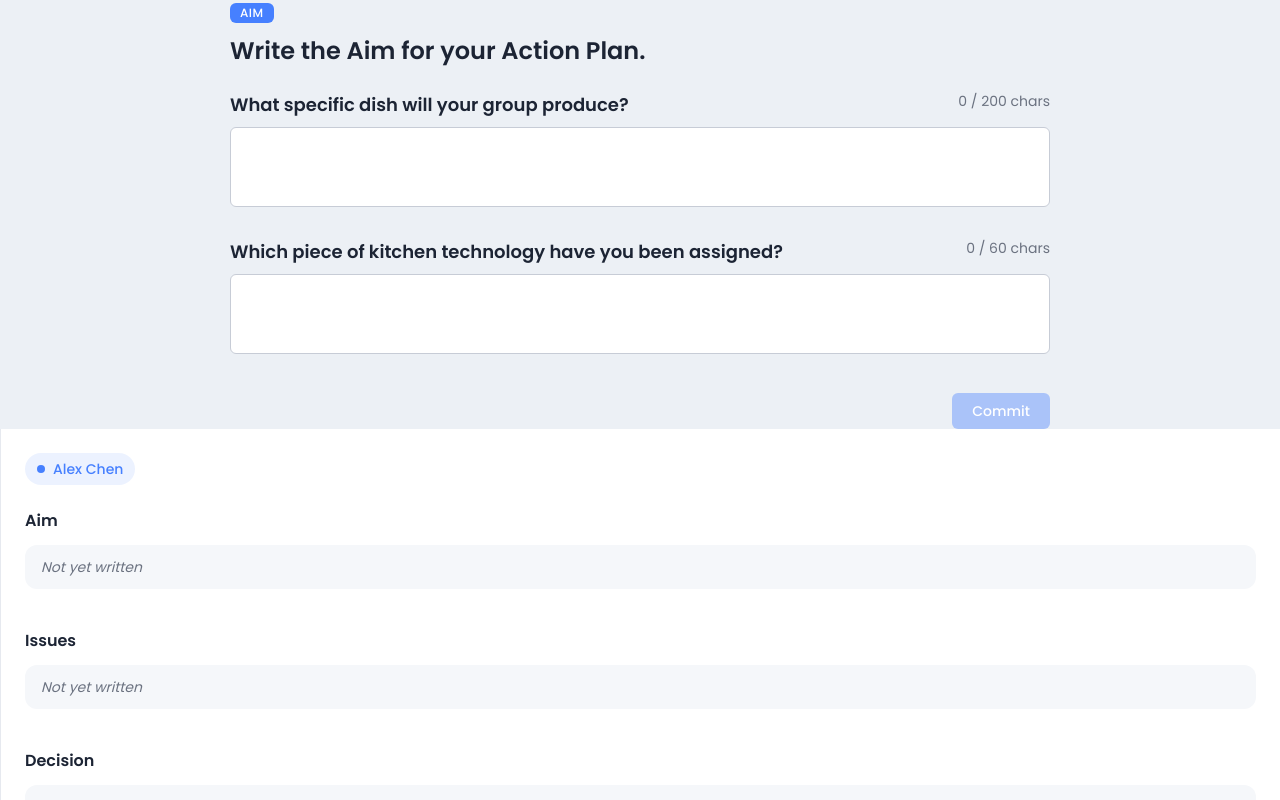
Test: SlideScaffold — commit flow › the Aim section in the panel no longer shows "Not yet written" after commit
Expected: the 1st text "Not yet written" is shown, [41,557,142,577]
Type "vanilla custard French toast" into the text box labelled "What specific dish will your group produce?".
click(640, 167); type("vanilla custard French toast")  # box [230,127,1050,207]
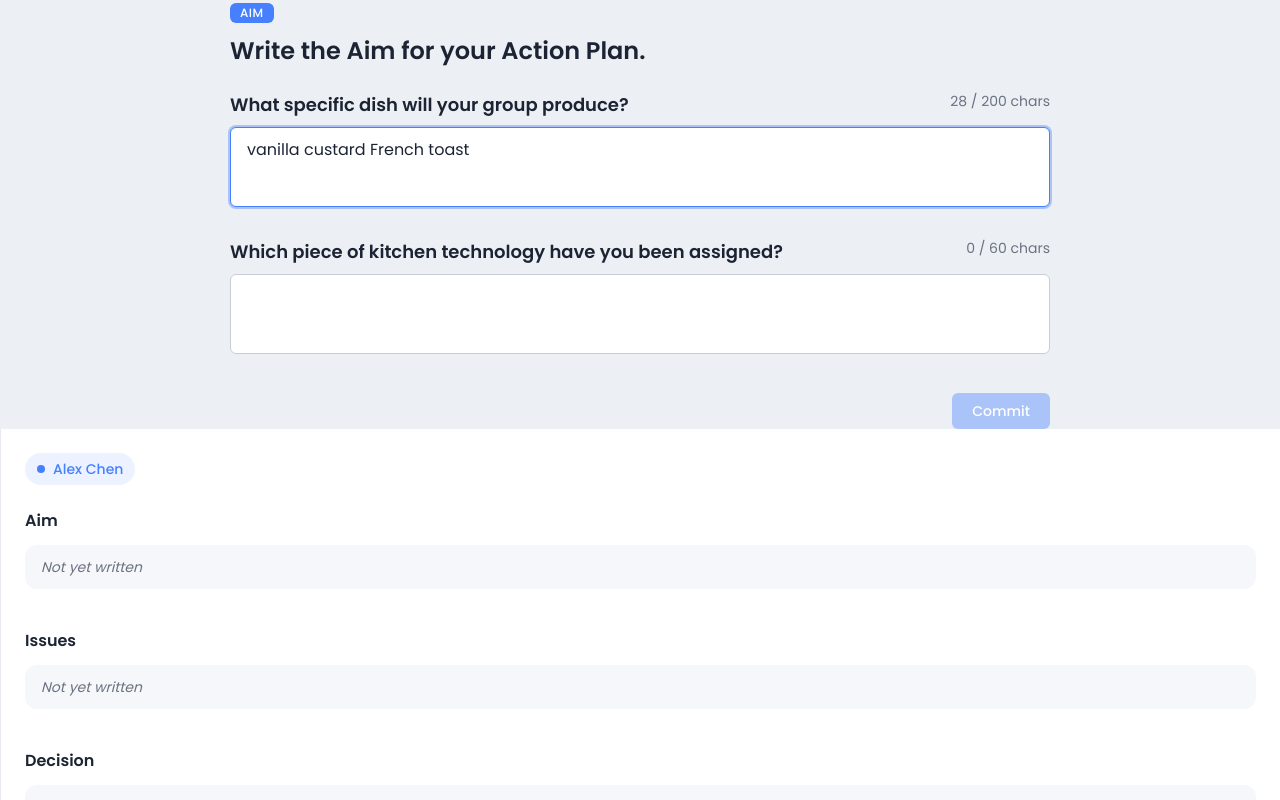
Type "Thermomix" into the text box labelled "Which piece of kitchen technology have you been assigned?".
click(640, 314); type("Thermomix")  # box [230,274,1050,354]
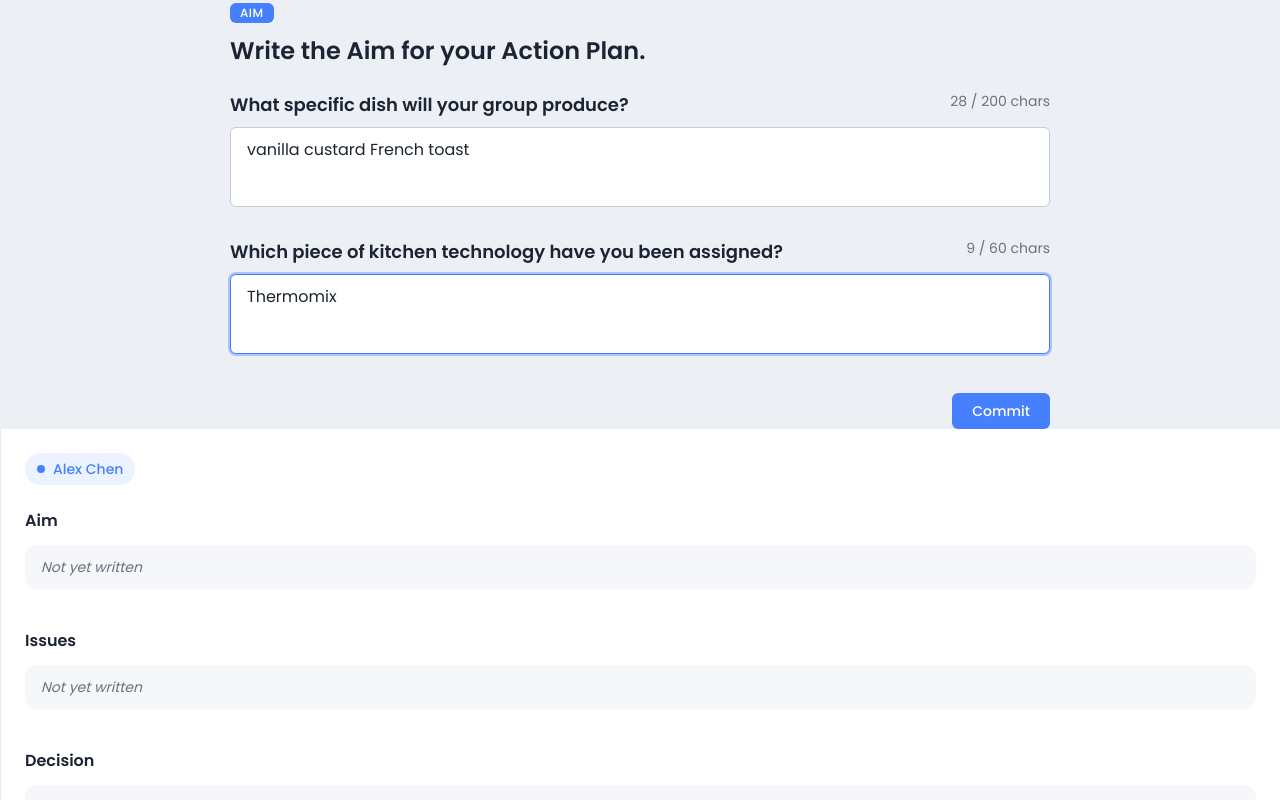
Click the button "Commit".
click(1001, 411)  # box [952,393,1050,429]
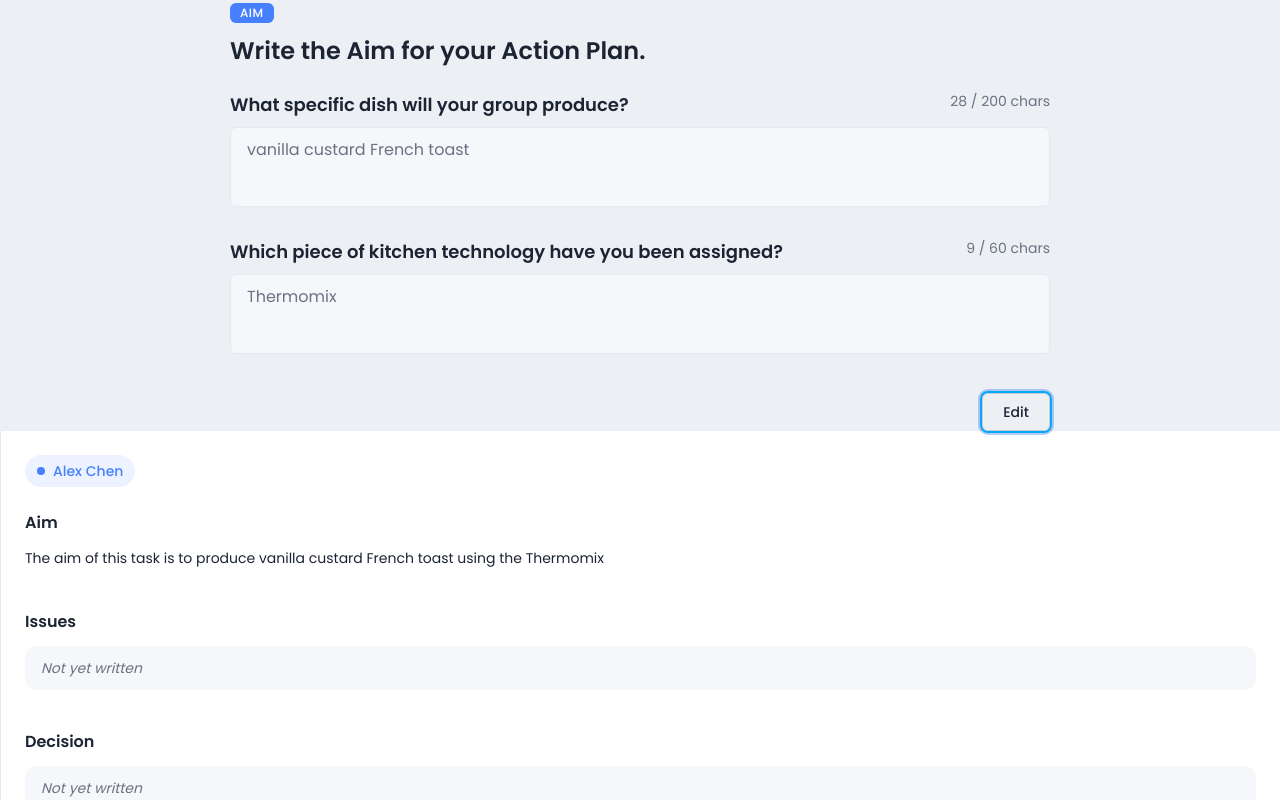
Expected: the text "Not yet written" is shown 5 times
